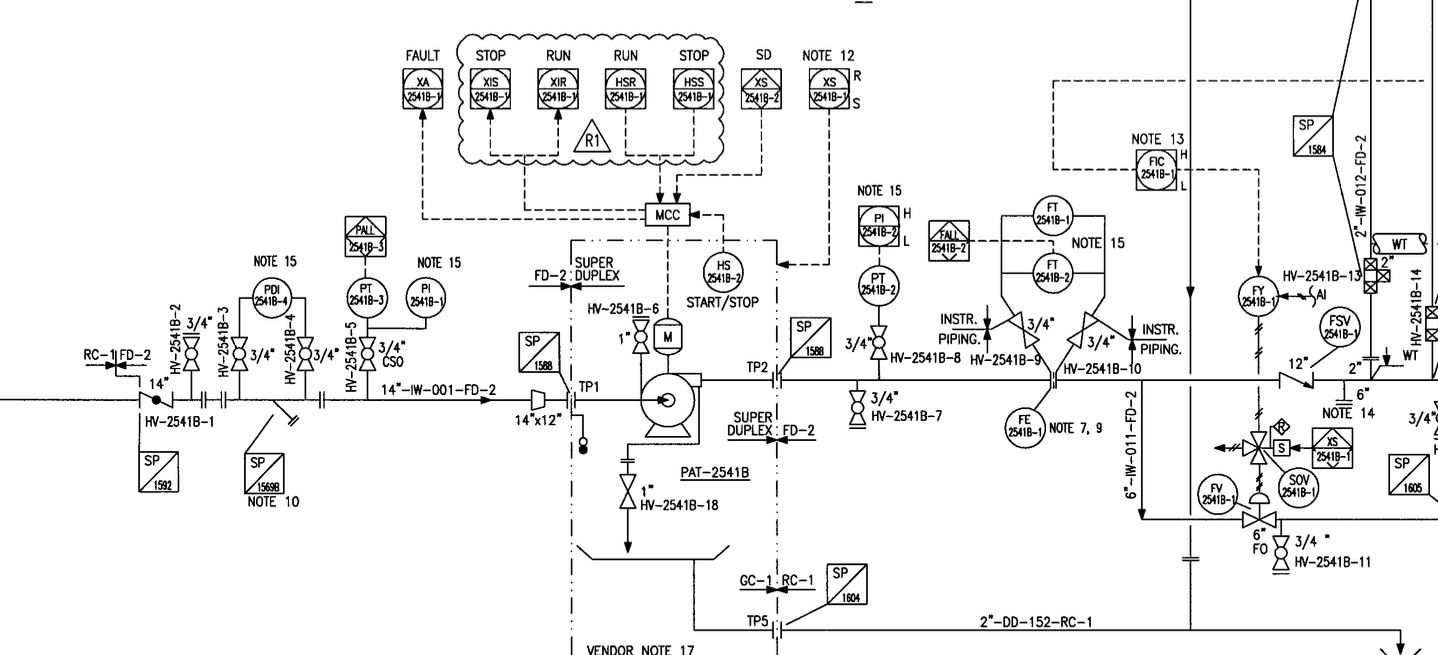Instrument: (1020, 243, 1076, 299), (1226, 269, 1284, 321), (693, 248, 756, 295), (401, 270, 451, 324), (335, 274, 392, 321), (855, 260, 908, 310), (1313, 300, 1363, 352), (1272, 466, 1326, 513), (1024, 194, 1079, 239), (246, 274, 295, 319), (1194, 470, 1239, 517)
Instrument-square: (394, 62, 451, 116), (731, 63, 787, 113), (336, 212, 395, 259), (528, 64, 583, 114), (851, 196, 902, 249), (600, 61, 650, 115), (920, 215, 974, 264), (668, 62, 718, 114), (1131, 146, 1181, 196), (465, 65, 513, 113), (805, 65, 851, 113)
